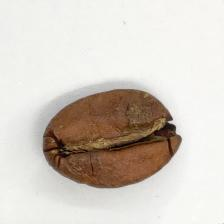NG: (122, 98, 155, 130)
